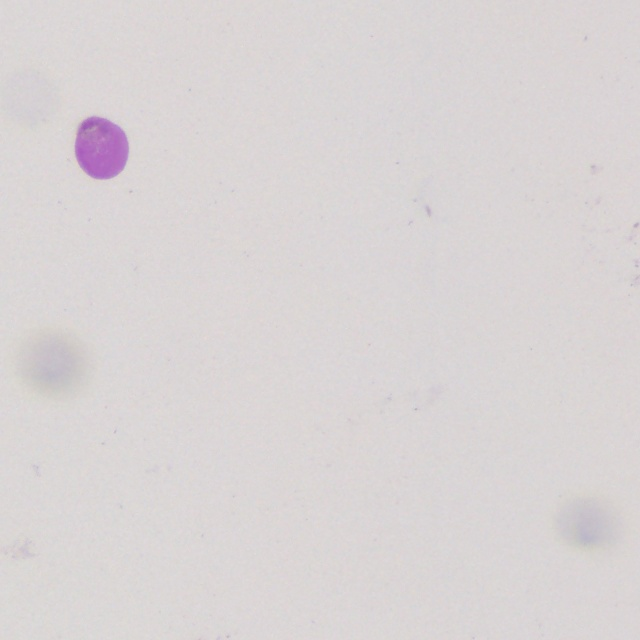viable: (76, 117, 128, 178)
